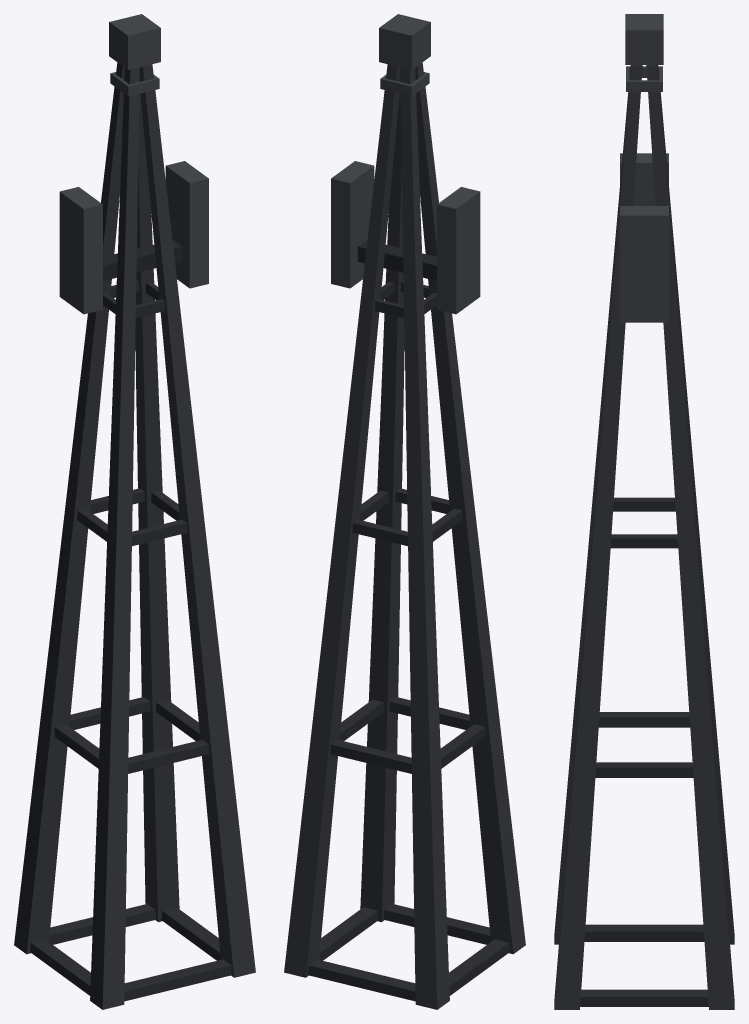
File: SM_Highrise_Greeble_03.fbx
3 views of the same model, side by side, from view 1: azimuth 30°, elevation 25°; view 2: azimuth 150°, elevation 25°; view 3: azimuth 270°, elevation 25° (orthographic).
Visible parts, largest first — view 1: SM_Highrise_Greeble_03; view 2: SM_Highrise_Greeble_03; view 3: SM_Highrise_Greeble_03.
Part boxes in pixels (left/top/right/bottom): SM_Highrise_Greeble_03: left=14, top=14, right=255, bottom=1009; SM_Highrise_Greeble_03: left=284, top=14, right=525, bottom=1009; SM_Highrise_Greeble_03: left=554, top=14, right=734, bottom=1009.
Bounding box in the file's own units: 5.47 × 31.82 × 5.47.
